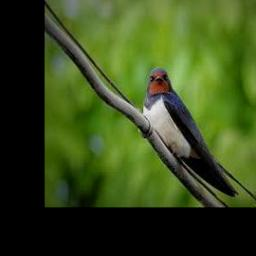Swallow: (142, 67, 256, 204)
